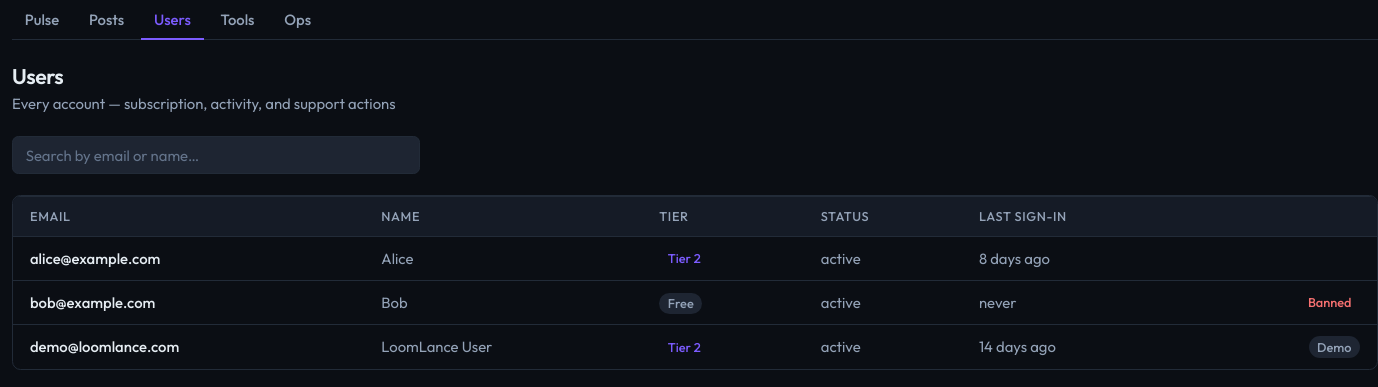
Test case: AdminUsersPage › search filters by email or name
Type "alice" into the field with placeholder "Search by email or name…" at (216, 155), box x1=12 y1=136 x2=420 y2=174
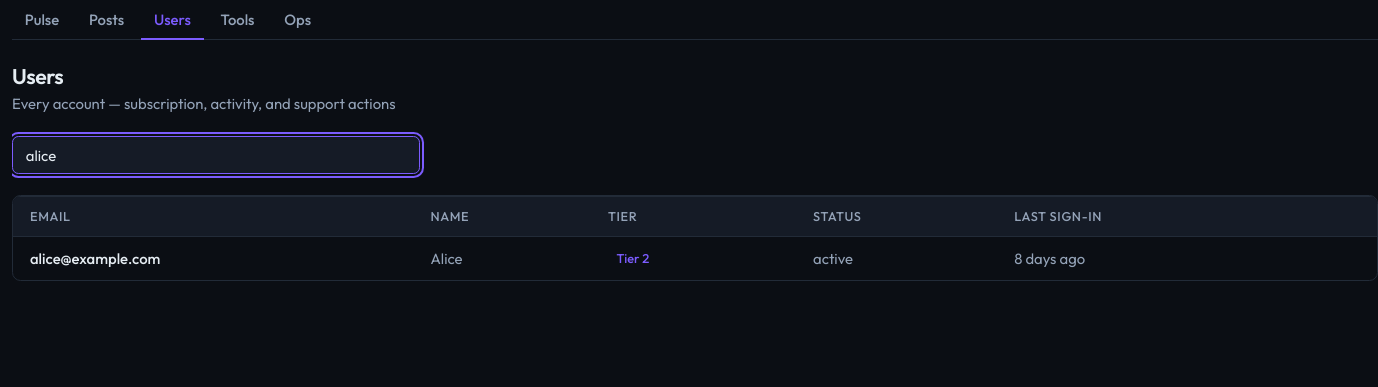
Expected: the link "alice@example.com" is shown, x1=30 y1=249 x2=160 y2=268
Expected: the link "bob@example.com" is gone
